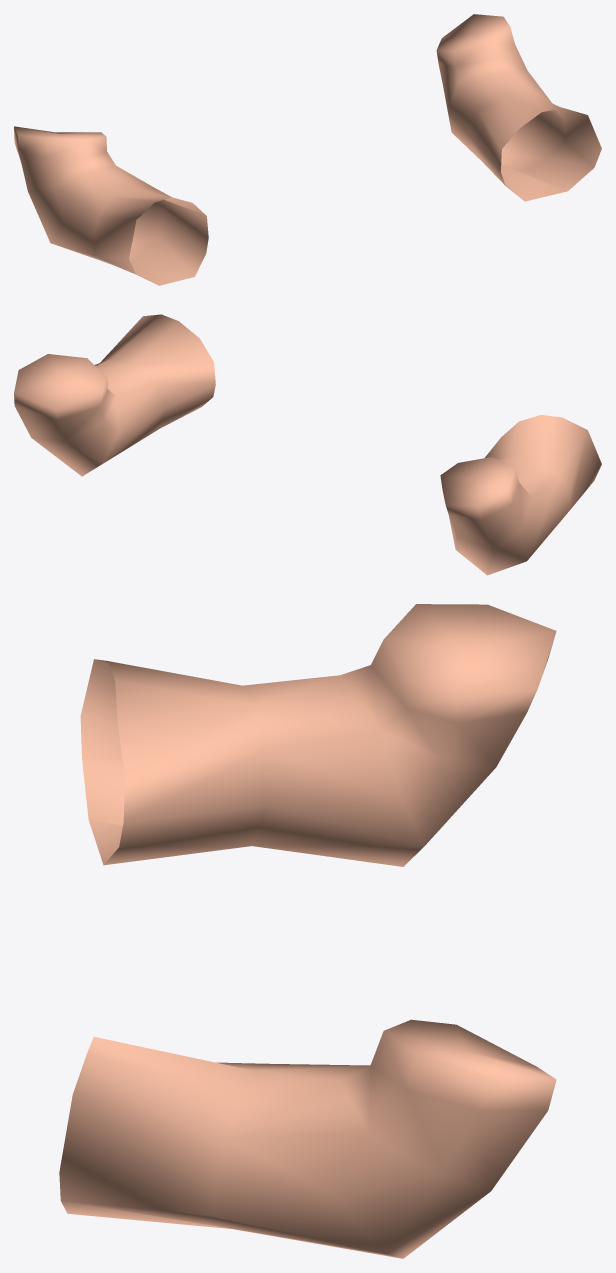
Rendered from AF_M_Arm_13.FBX.
3 renders of one model, top to bottom at view 1: azimuth 30°, elevation 25°; view 2: azimuth 150°, elevation 25°; view 3: azimuth 270°, elevation 25°, orthographic. The views are drawn at different scales.
Visible parts, largest first — view 1: AF_M_Arm_13; view 2: AF_M_Arm_13; view 3: AF_M_Arm_13.
Part boxes in pixels (x1=…): AF_M_Arm_13: x1=14, y1=14, x2=601, y2=285; AF_M_Arm_13: x1=14, y1=314, x2=601, y2=575; AF_M_Arm_13: x1=59, y1=604, x2=556, y2=1258.
Bounding box in the file's own units: 455 × 104 × 200.
Materials: 1 (1 with a texture image).
